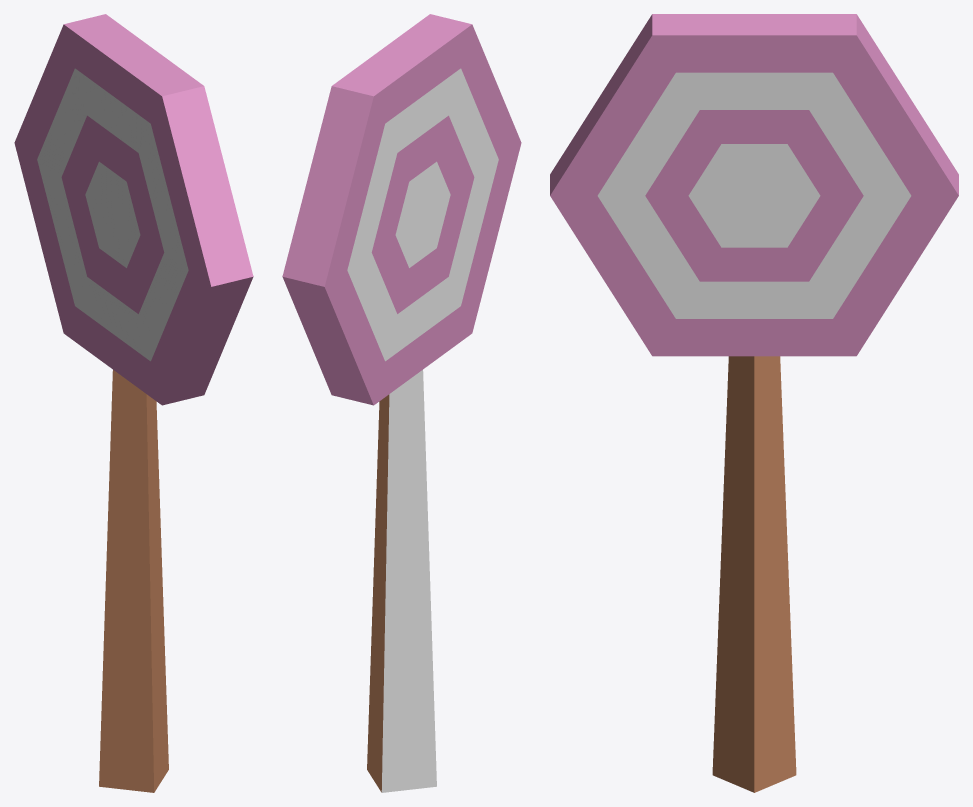
Rendered from lollypop.fbx.
The picture shows the model from 3 angles, left to right: view 1: azimuth 30°, elevation 25°; view 2: azimuth 150°, elevation 25°; view 3: azimuth 270°, elevation 25°; orthographic projection. The views are drawn at different scales.
Visible parts, largest first — view 1: lollypop; view 2: lollypop; view 3: lollypop.
Part boxes in pixels (left/top/right/bottom): lollypop: left=14, top=14, right=253, bottom=792; lollypop: left=282, top=14, right=521, bottom=792; lollypop: left=550, top=14, right=958, bottom=792.
Size of the model in its own units: 0.3851 by 3.8 by 1.88.
